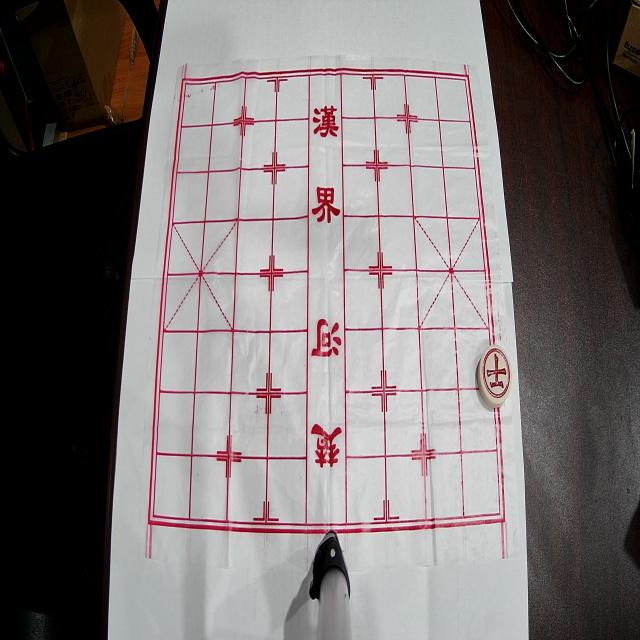red-guard: (478, 344, 512, 408)
